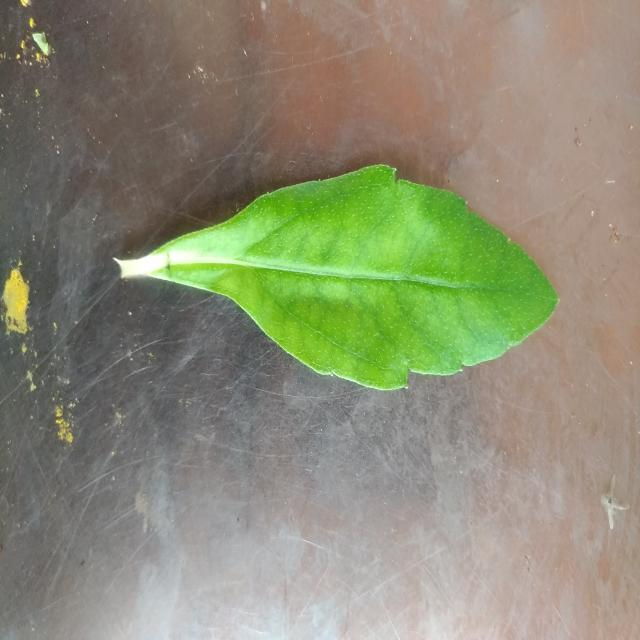bringaraja: (118, 164, 558, 389)
